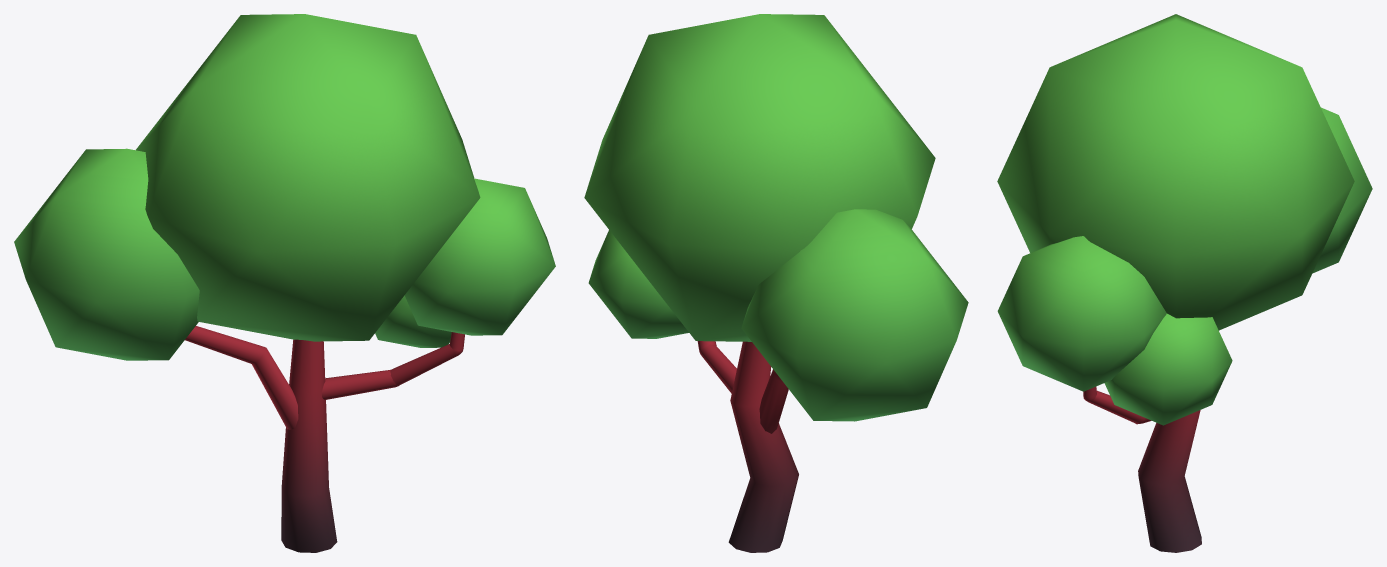
The model's file is oak2.fbx.
3 views of the same model, side by side, from view 1: azimuth 30°, elevation 25°; view 2: azimuth 150°, elevation 25°; view 3: azimuth 270°, elevation 25° (orthographic).
Visible parts, largest first — view 1: oak2.005; view 2: oak2.005; view 3: oak2.005.
Boxes of the visible parts, x1,y1,x2,y2 form: oak2.005: [14, 14, 555, 552]; oak2.005: [584, 14, 968, 552]; oak2.005: [997, 14, 1372, 552].
Size of the model in its own units: 659 by 768 by 503.
